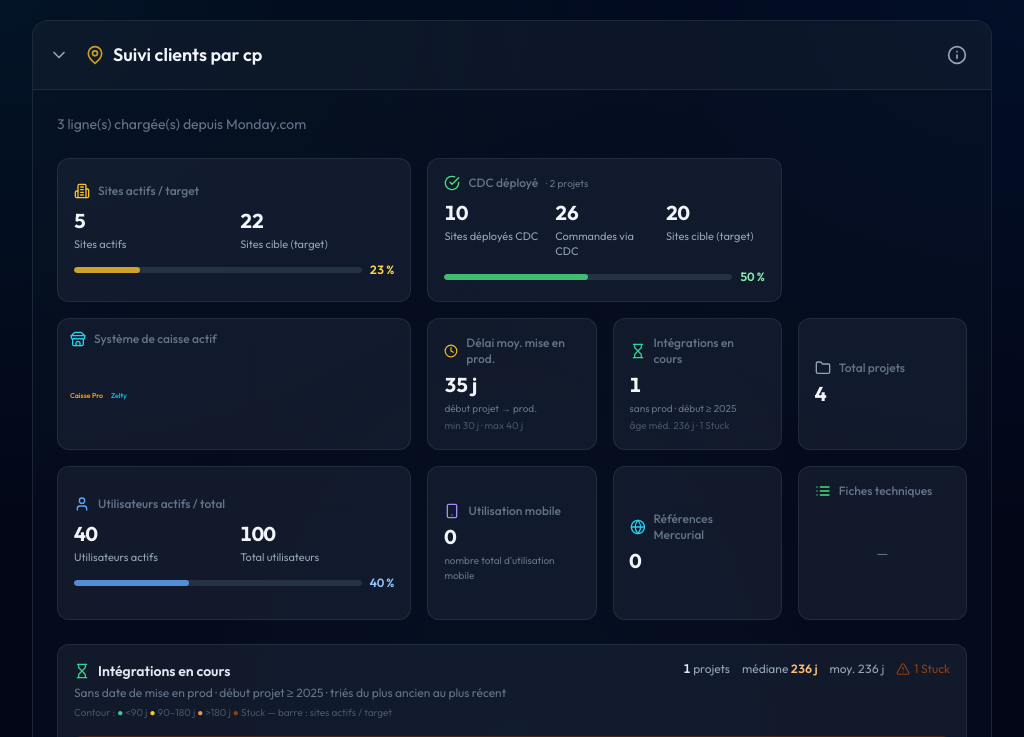
Test: ProduitDashboard › ouvre la modale délai moyen de mise en production
(page scrolled)
Expected: the text "Délai moy. mise en prod." is shown, [466,335,580,367]
Click the button "Délai moy. mise en prod.": {"x": 512, "y": 384} [427,318,597,450]
(page scrolled)
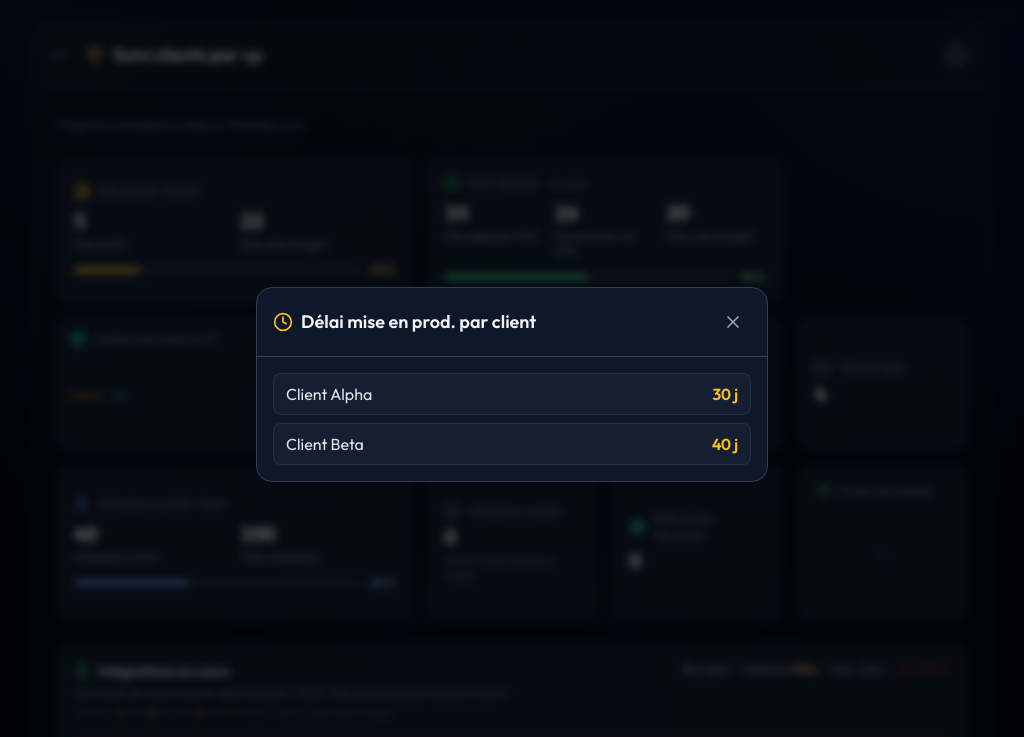
Expected: the heading "Délai mise en prod. par client" is shown, [301,308,536,336]
Expected: the text "Client Alpha" is shown, [286,384,372,404]
